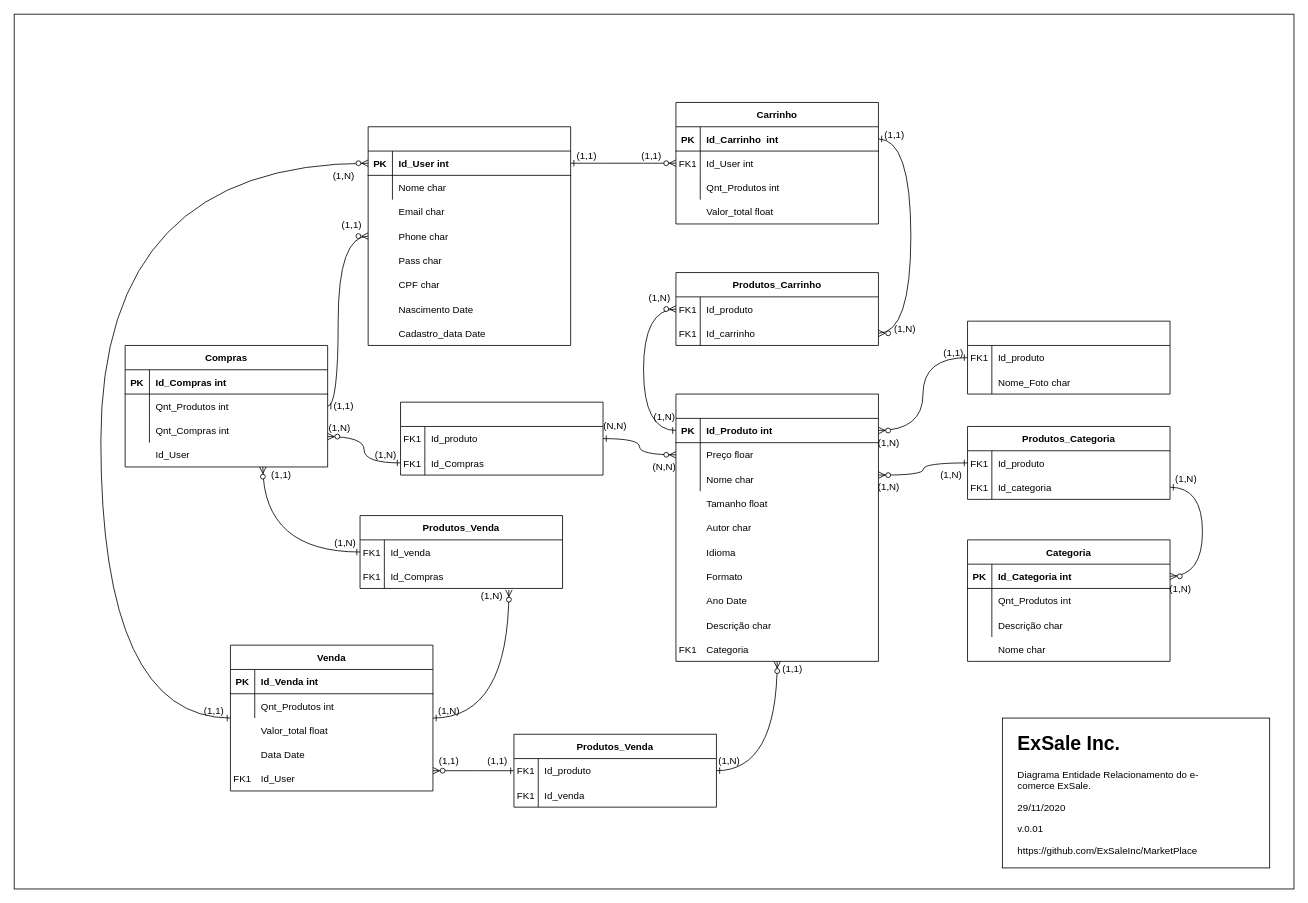
The diagram is 1308 pixels wide and 903 high, and some of its shapes have lost their labels. The shapes that lost their labels are listed below. From the top down, each one's box as (x1, y1, x2, y2) in pixels, then its label:
(367, 126, 571, 345): Users
(967, 320, 1170, 394): fotos_Produtos
(400, 401, 603, 475): Produtos_Compra
(675, 393, 878, 661): Produtos
